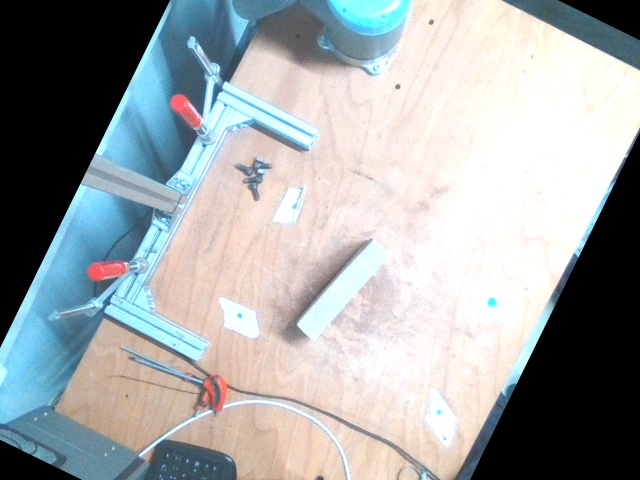brick-side: (299, 241, 388, 337)
